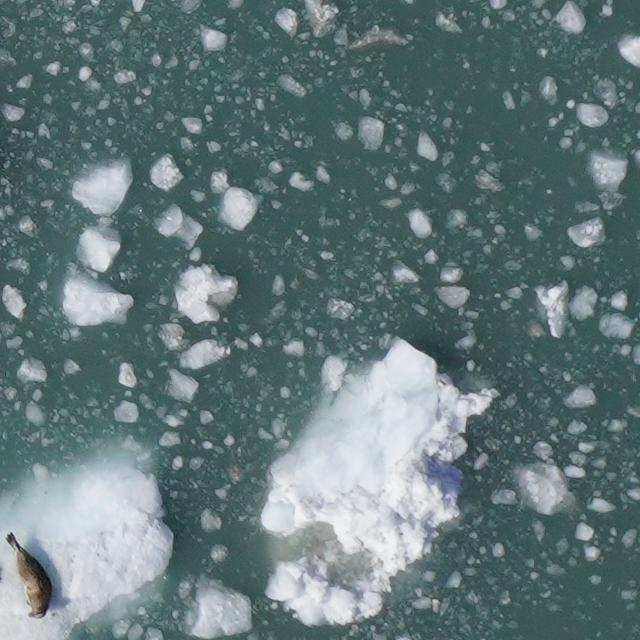seal: (3, 528, 56, 623)
